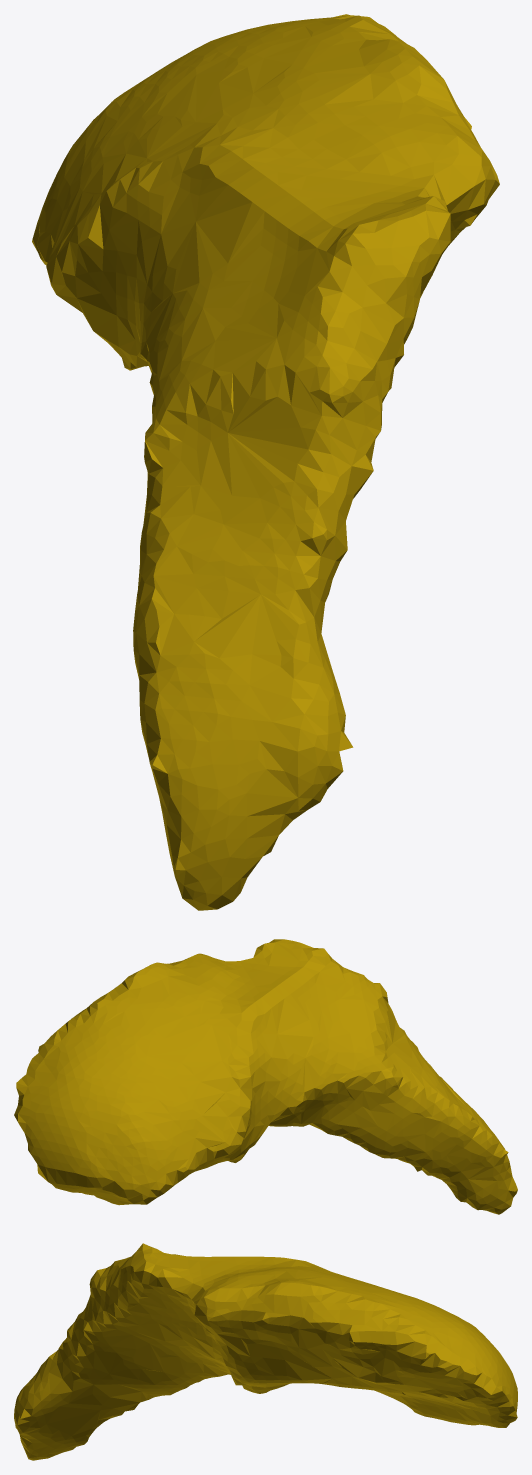
The model's file is Model_10104_LH__Parainsular_cortex__medial_part_(PaIM).obj.
3 views of the same model, one above another, from view 1: azimuth 30°, elevation 25°; view 2: azimuth 150°, elevation 25°; view 3: azimuth 270°, elevation 25° (orthographic). The views are drawn at different scales.
Size of the model in its own units: 2.82 by 2.59 by 4.07.
